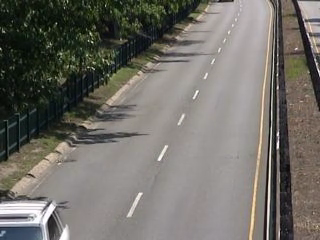car: (1, 194, 68, 240)
